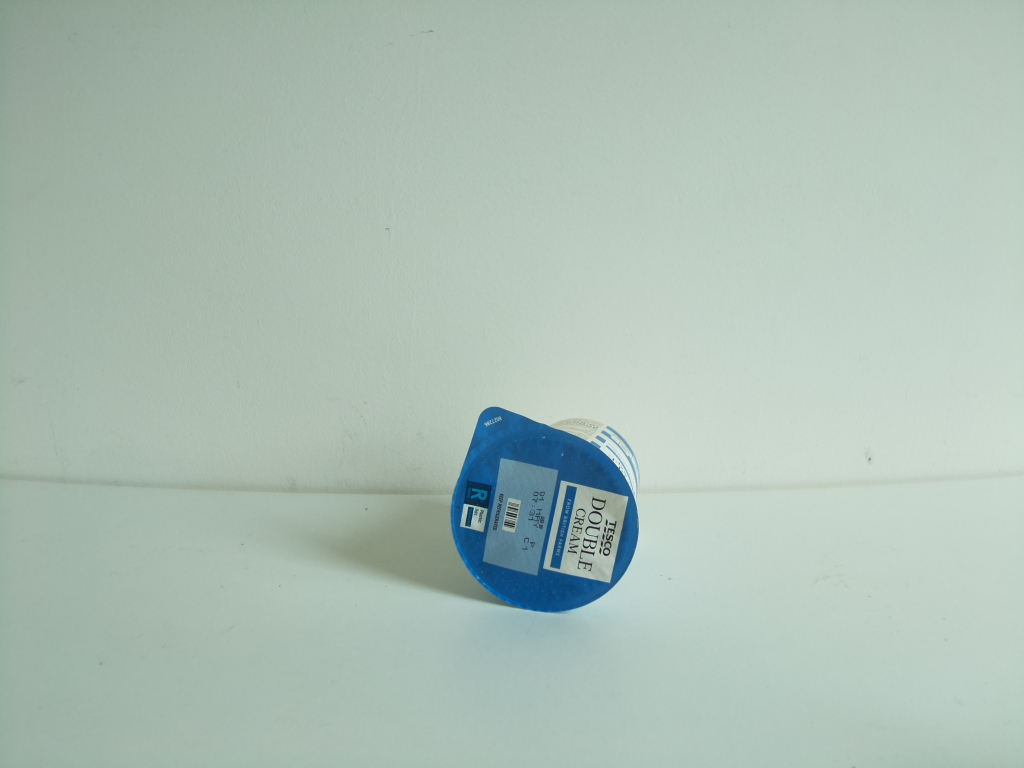cream: (449, 403, 640, 617)
